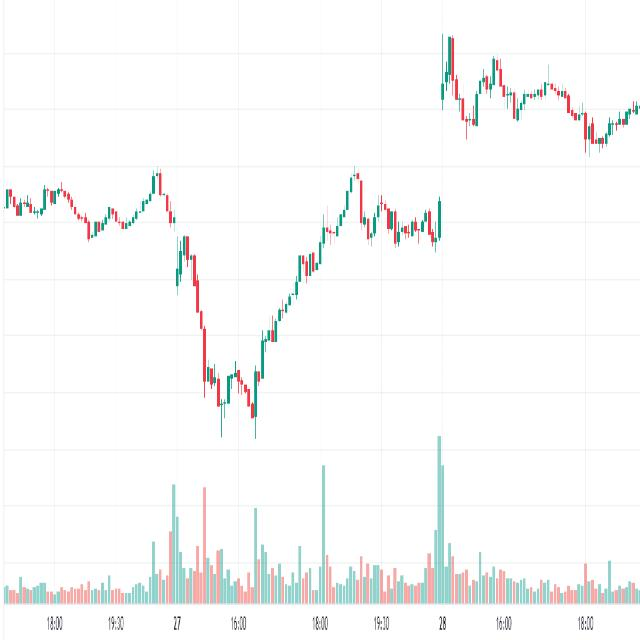Double-Bottom: (194, 300, 278, 442)
Falling-Wedge: (429, 0, 607, 159)
